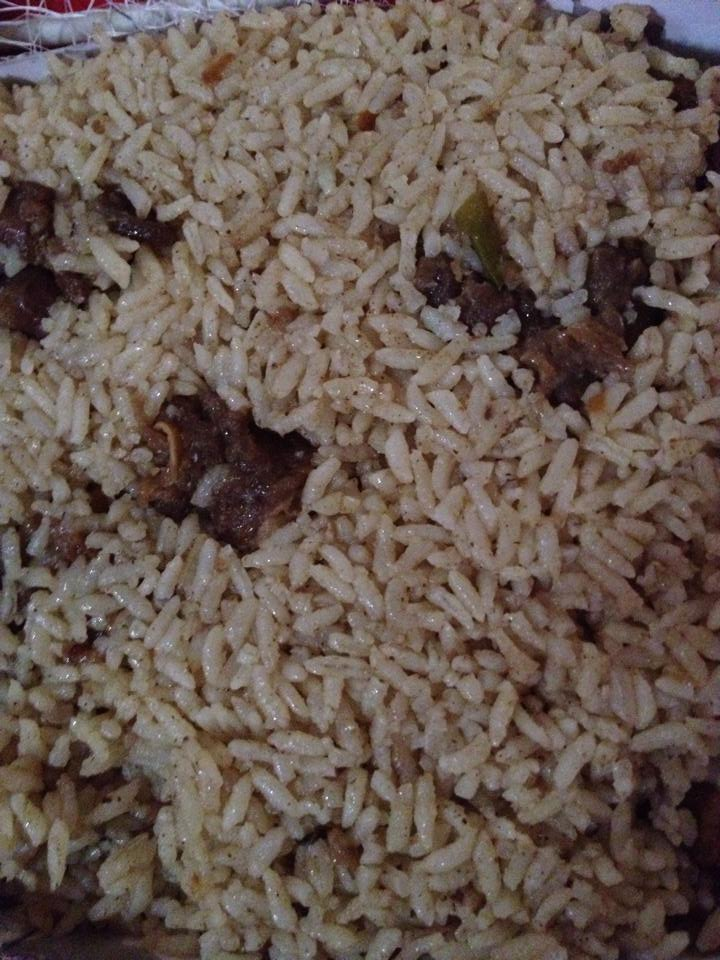tehari: (7, 9, 720, 951)
